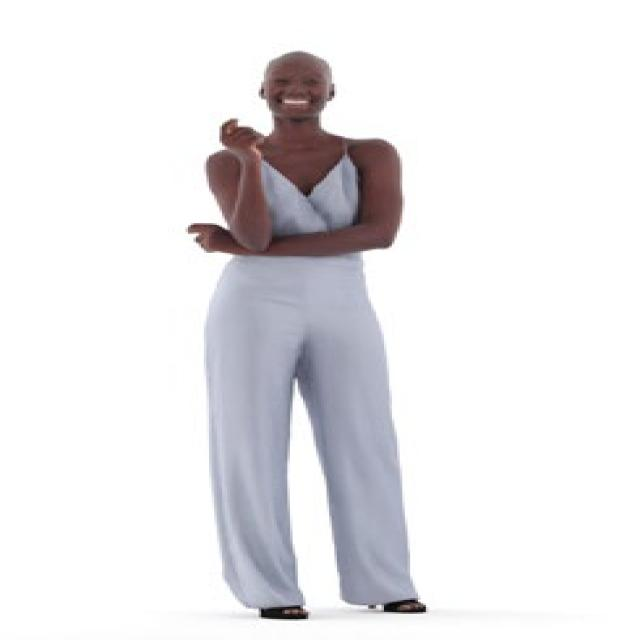standing: (188, 49, 447, 617)
